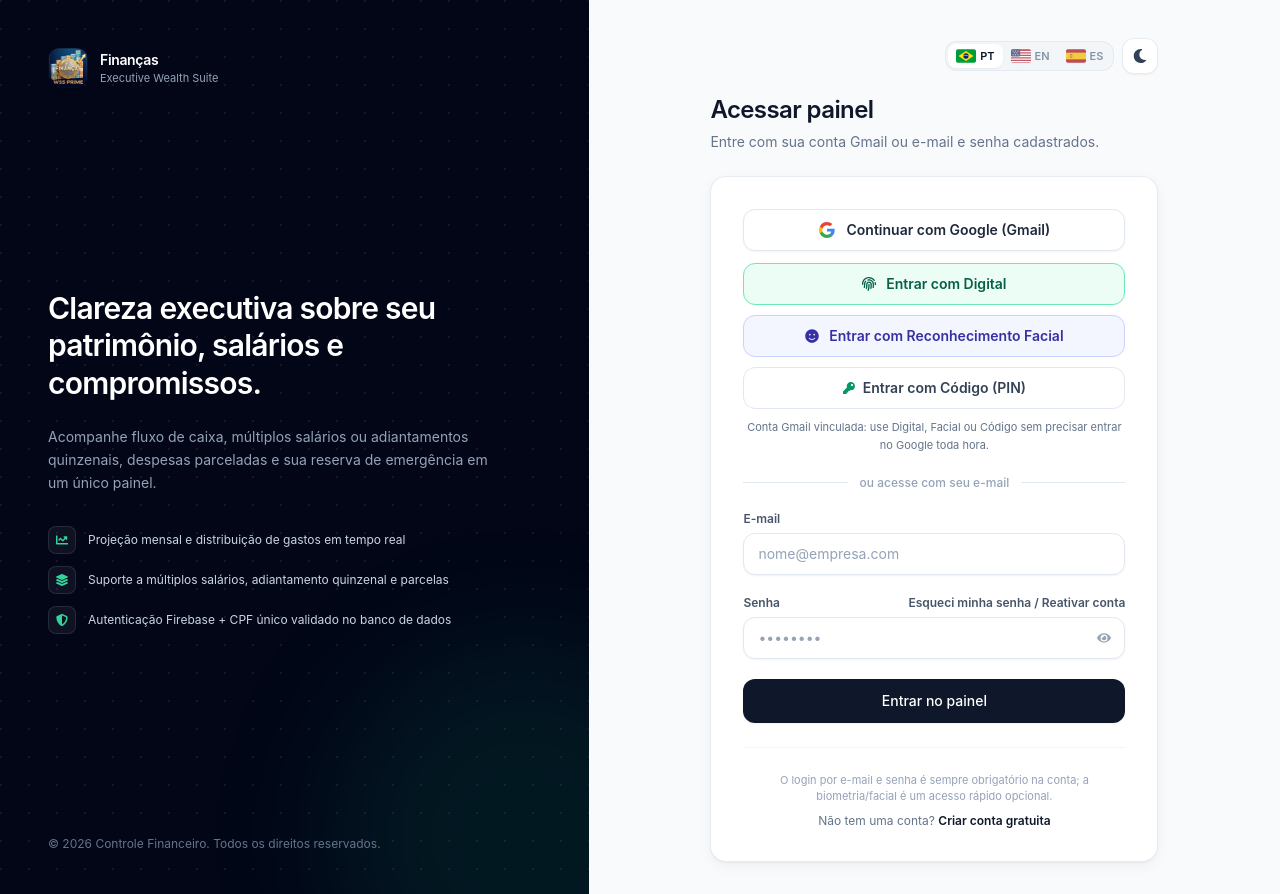
Biometric Settings, Platform Login & Due-Date Notifications › keeps separate Digital & Facial slots on Login, auto-reveals PIN on Digital failure, and allows Facial or PIN login for Gmail accounts
The width and height of the screenshot is (1280, 894).
Later steps or results of the test are not shown.
Expected: the button with test id "facial-login-btn" reads "Entrar com Reconhecimento Facial", [743, 315, 1125, 357]
Expected: the button with test id "pin-login-toggle-btn" is shown, [743, 367, 1125, 409]
Failing Digital reveals PIN fallback form automatically
Click the button with test id "biometric-login-btn". click: (934, 284)
box: [743, 263, 1125, 305]
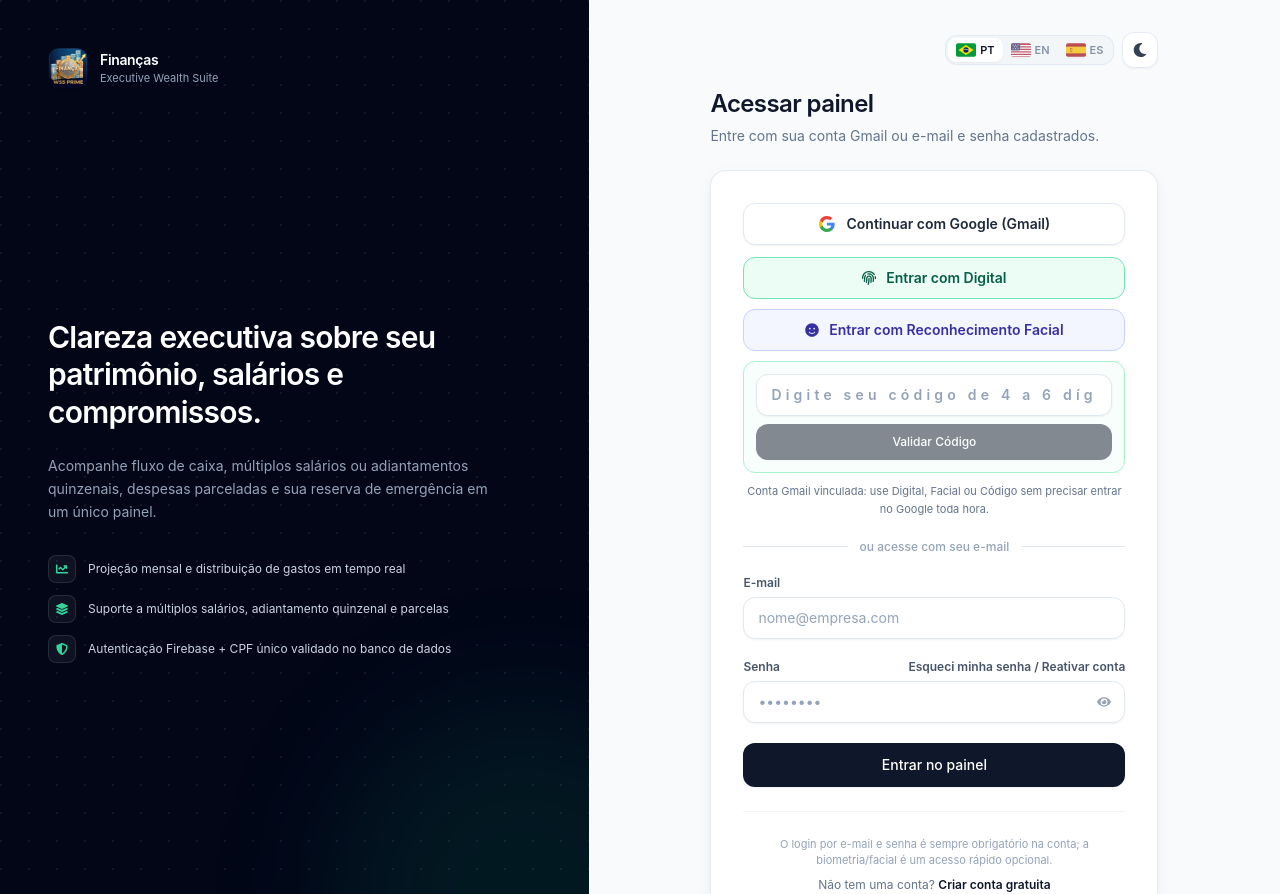
Now the form with test id "login-pin-form" is shown, box [743, 361, 1125, 473]
